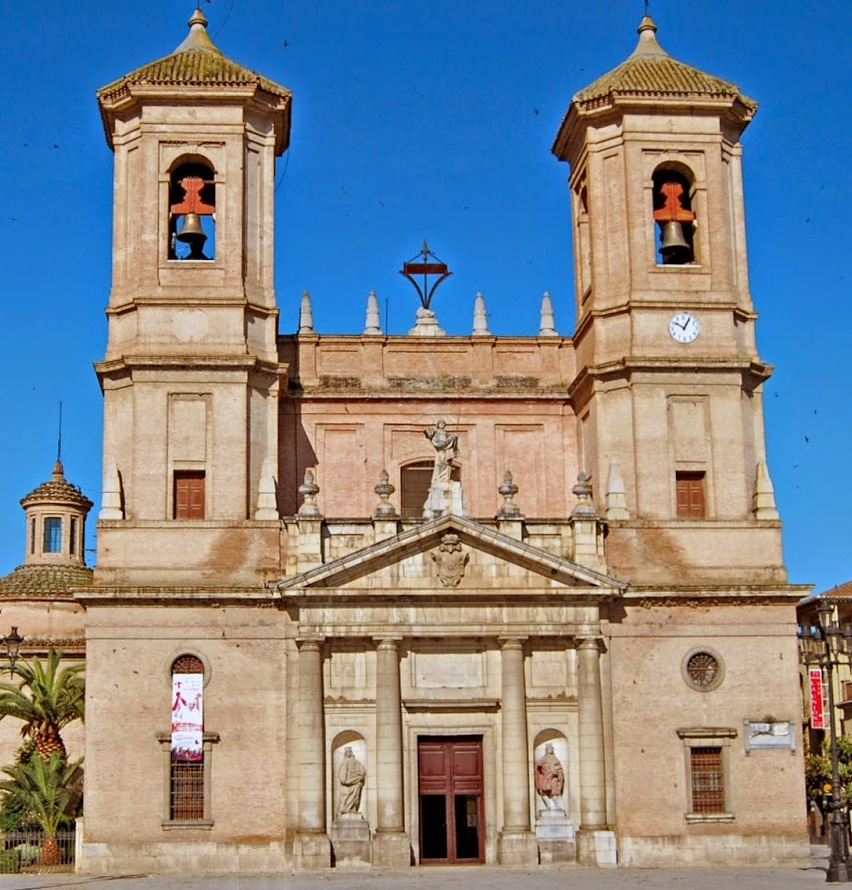fronton: (274, 512, 634, 598)
vano-adintelado: (405, 716, 500, 867), (155, 734, 215, 825), (678, 728, 734, 817), (165, 458, 212, 522), (672, 458, 714, 519)
